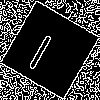I: (25, 25, 60, 72)
